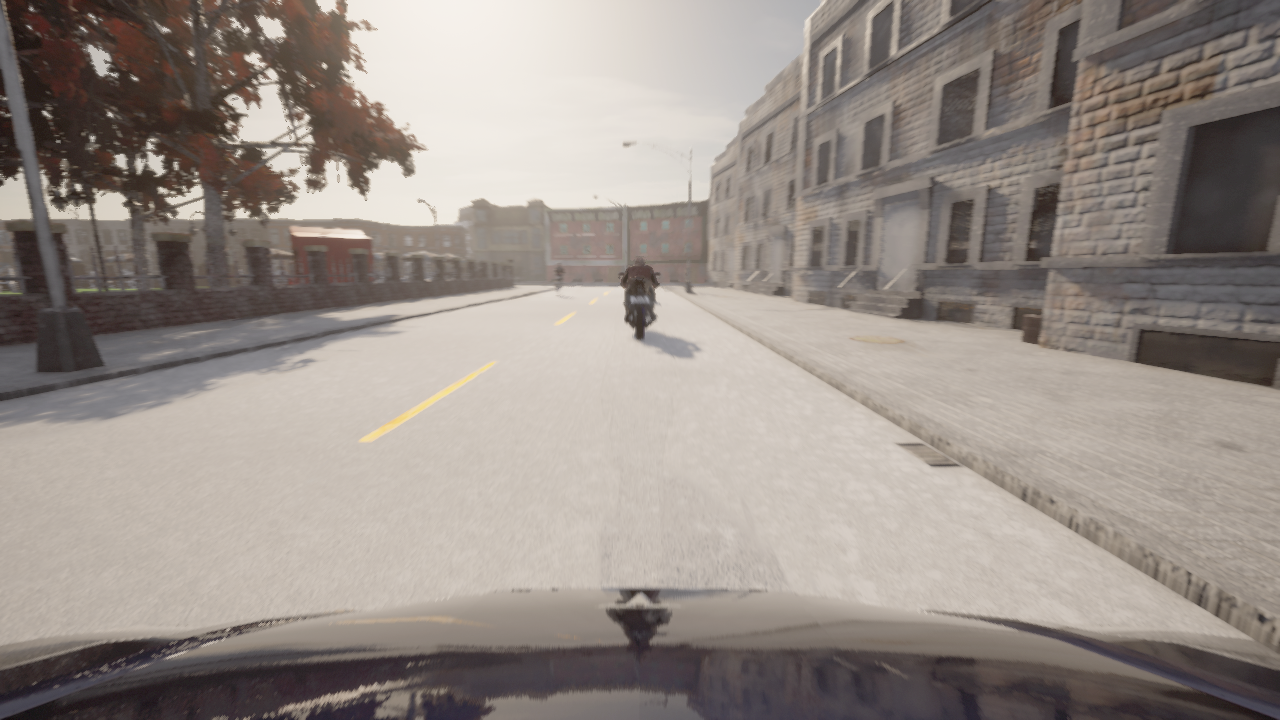cyclist: (0, 588, 1279, 719), (619, 274, 660, 339), (557, 275, 562, 296)
pedestrian: (685, 265, 691, 280)
